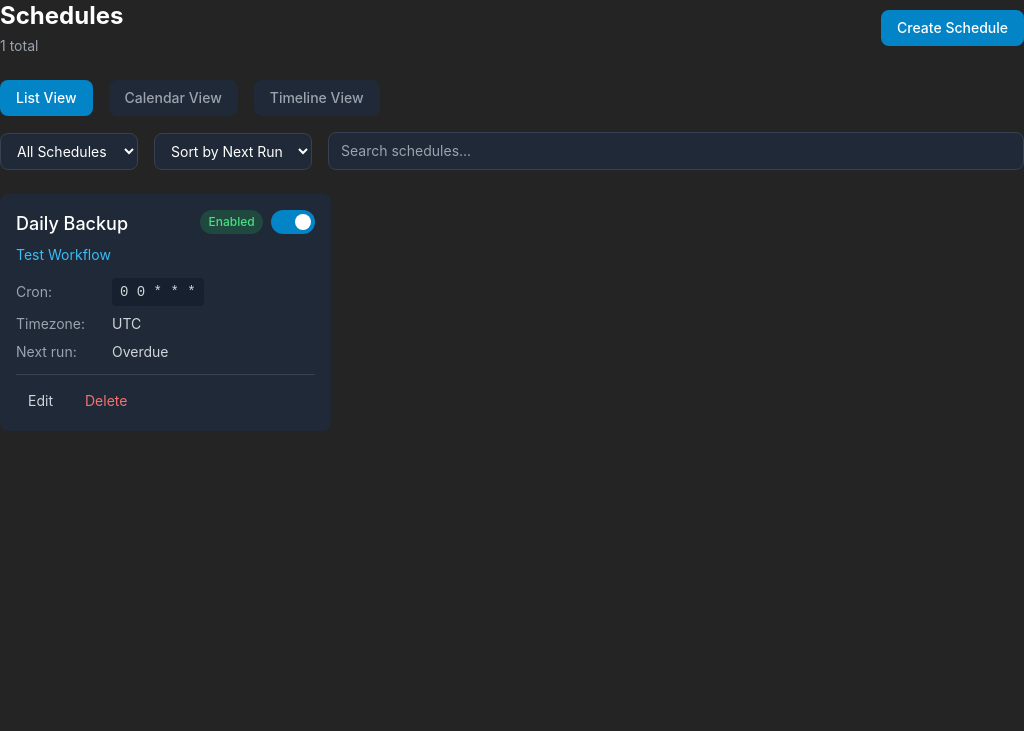
Test case: Schedules Page › should switch to calendar view
Step 1. Click the button "Calendar View" → (173, 98), box left=108, top=80, right=238, bottom=116
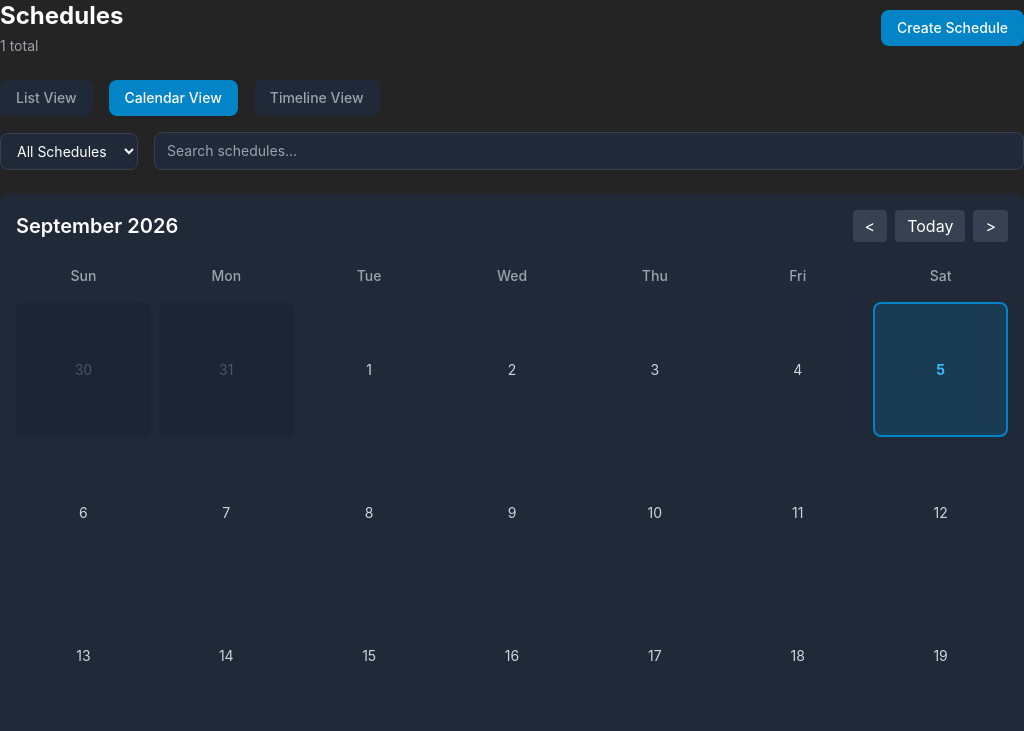
expect the heading "September 2026" is shown: met, box left=16, top=212, right=178, bottom=240
